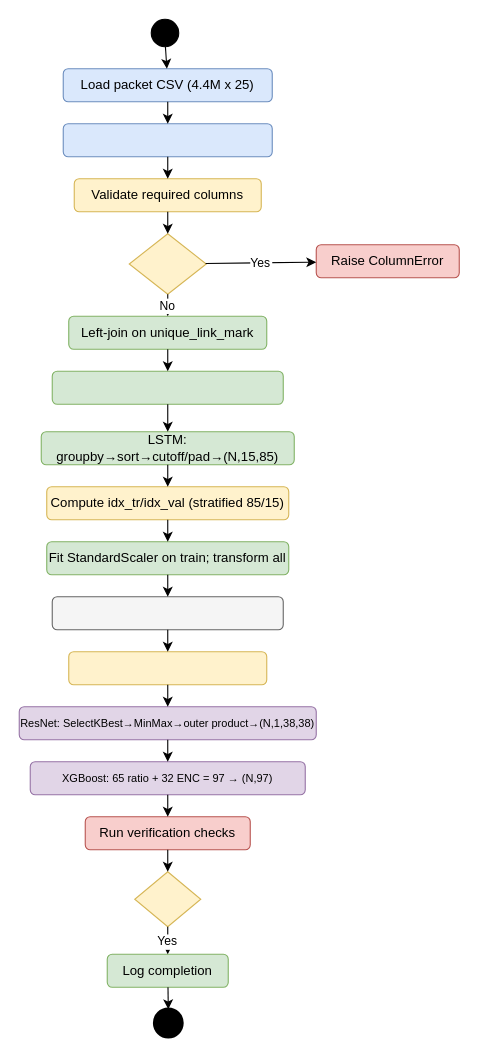
Some shapes in this 479 by 1057 pixel diagram are drawn without their labels. Here are the shapes that lost their labels. From the top down, the centre of each, then its label:
the point at 167,140: Load session CSV (488K x 280)
the point at 167,263: Missing?
the point at 167,387: Replace Inf→NaN, impute with median
the point at 167,613: Save LSTM tensors + scaler + uid_list
the point at 167,668: Align session CSV by uid_list
the point at 167,899: Pass?
